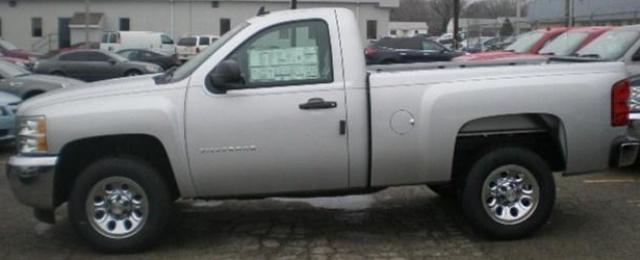pickup-truck: (5, 7, 639, 252)
